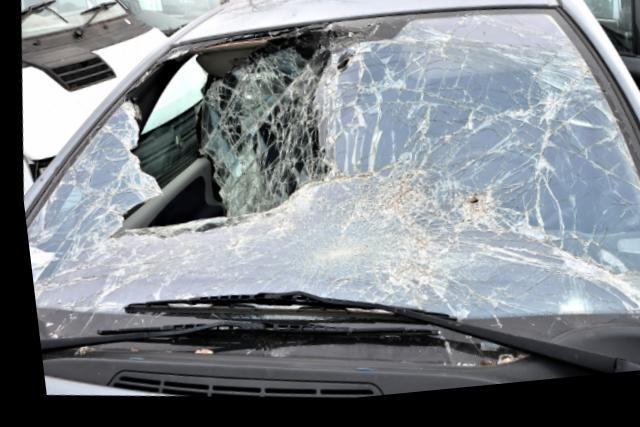glass shatter: (20, 19, 640, 374)
